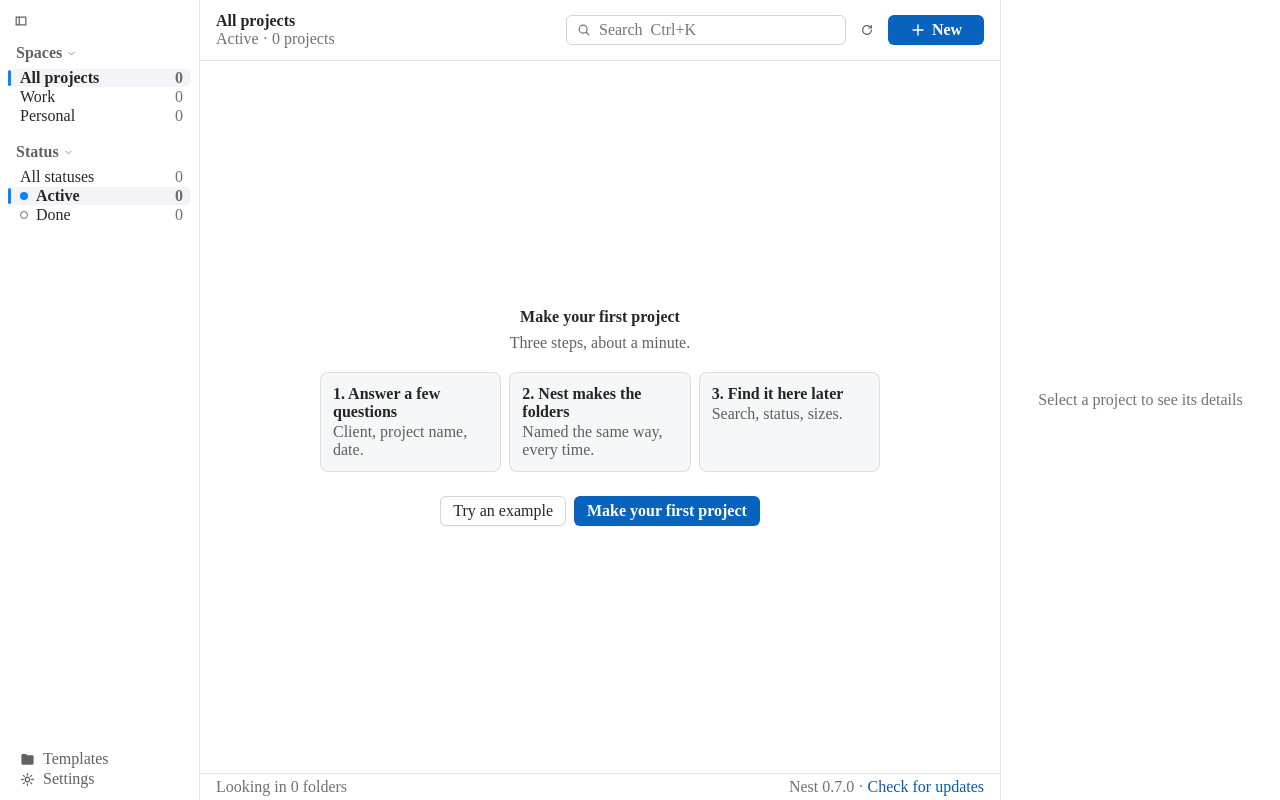
it: Main: first steps › Try an example opens New Project filled in, and creates nothing
The image size is (1280, 800).
Click the button "Try an example" at (503, 511), box [440,496,566,526]
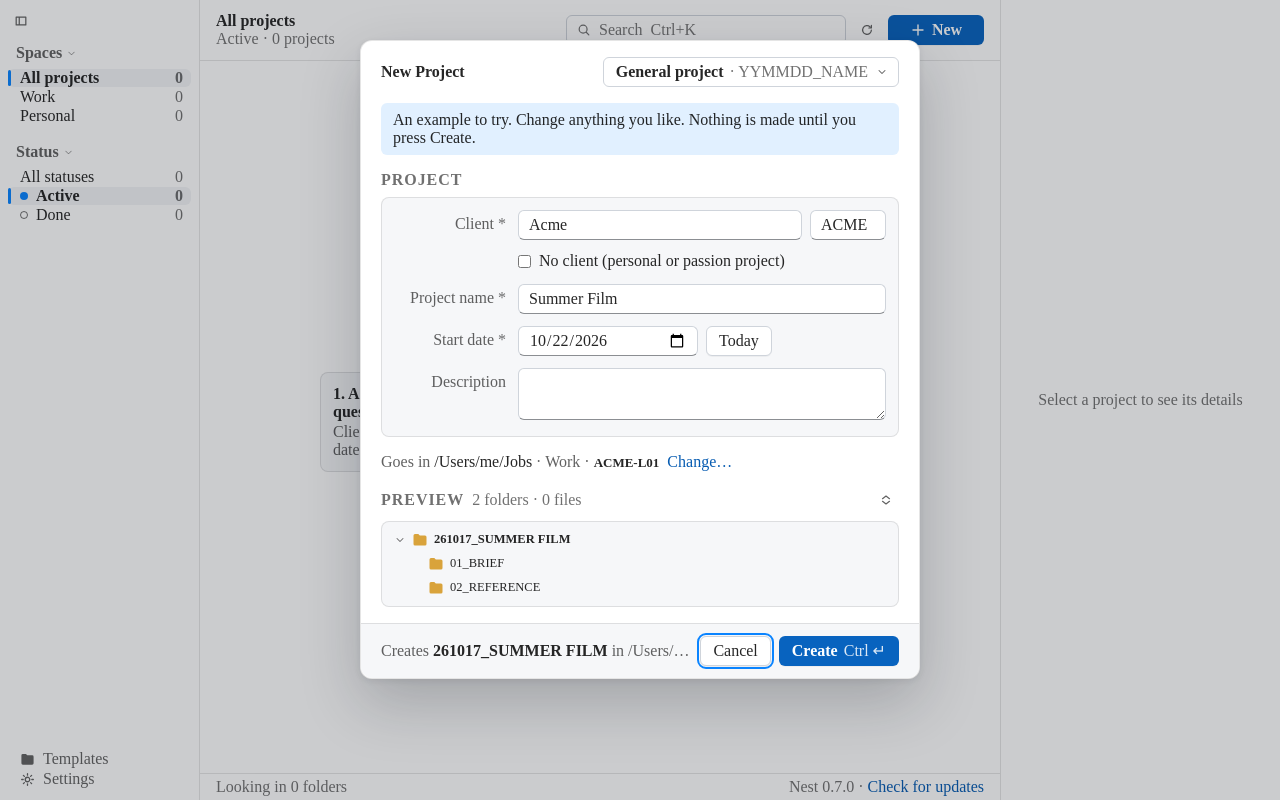
Now the text "Nothing is made until you press Create" is shown, box [393,111,856,146]
Now the dropdown with placeholder "Name" holds "Acme", box [518,210,802,240]
Now the field named "Client code" holds "ACME", box [810,210,886,240]
Note: Nothing made: Cancel closes it.
Click the button "Cancel" at (736, 650), box [700,636,771,666]
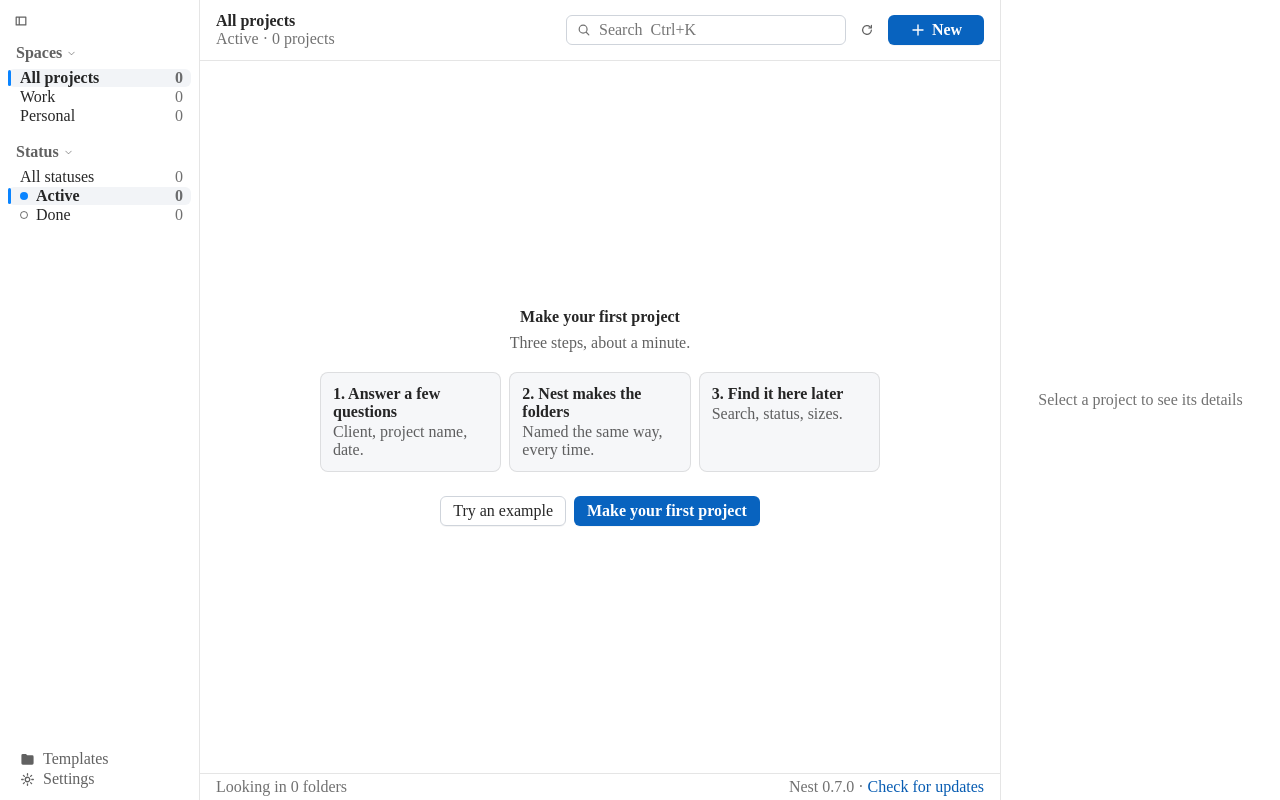
Now the dialog is gone
